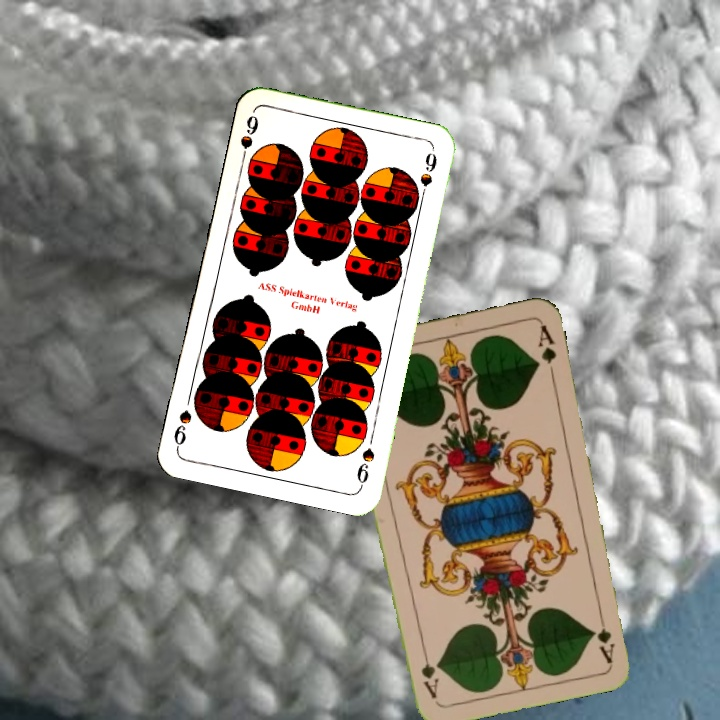GA: (593, 606, 618, 665)
S9: (236, 111, 261, 168), (352, 444, 377, 491)
